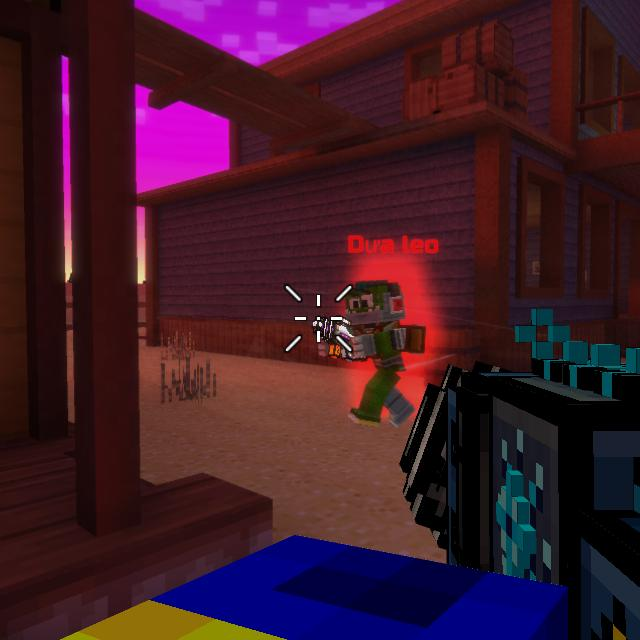Enemy: (333, 279, 425, 426)
